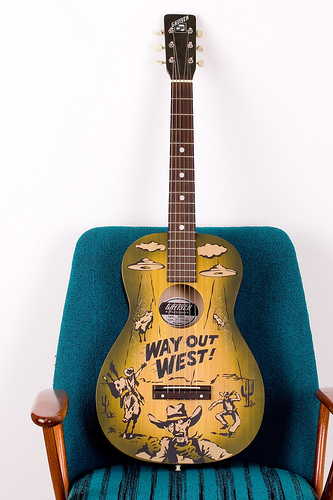guitar: (90, 9, 268, 468)
